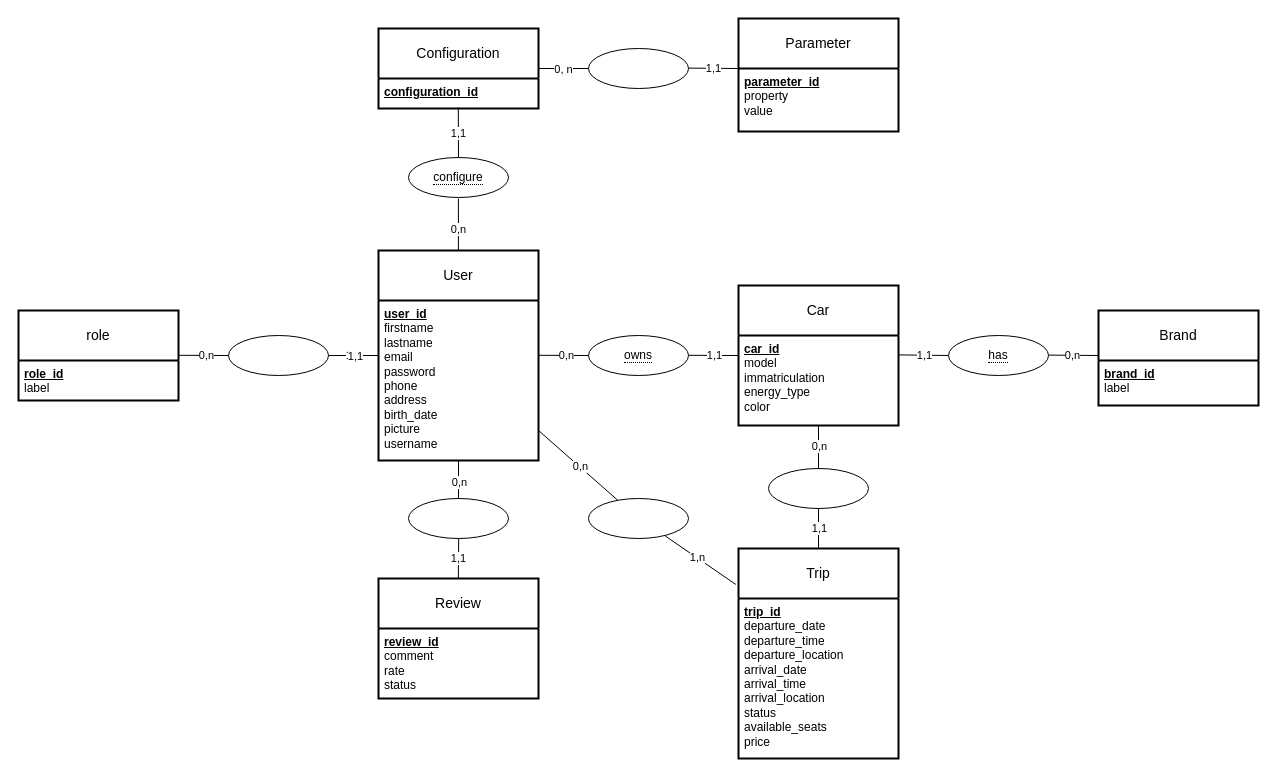
Image size: 1276x776. Some labels were removed from this diagram. Here are the shapes that lost their labels. From the top down, the centre of each, then its label:
At (638,68): "contains".
At (278,355): "assigned".
At (818,488): "serves".
At (458,518): "writes".
At (638,518): "books".
